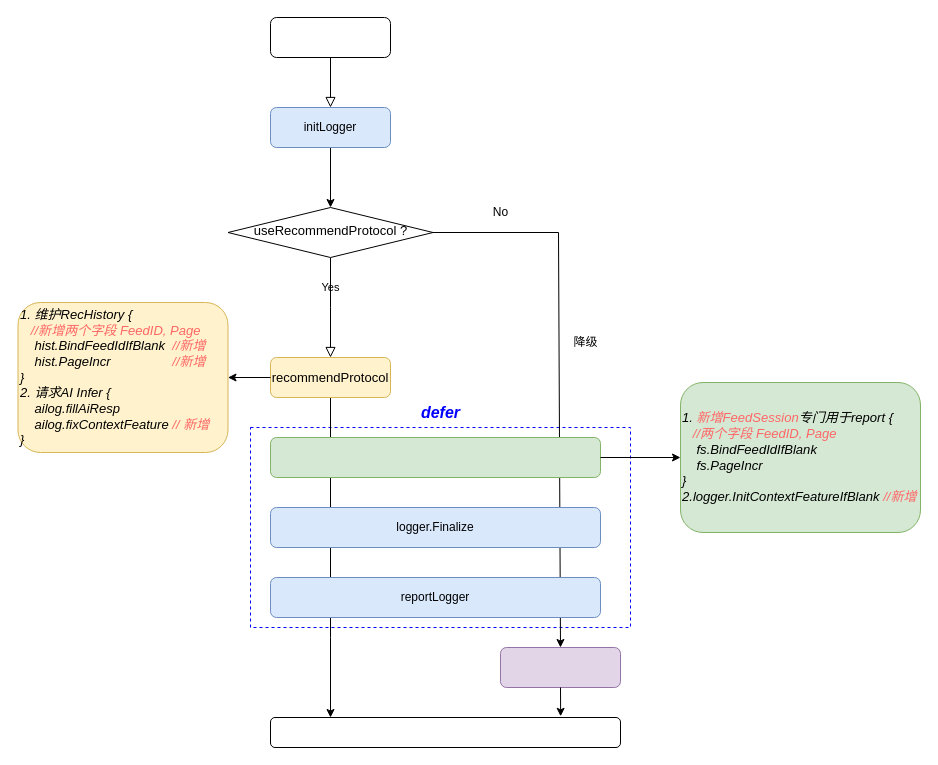
Some shapes in this 938 by 765 pixel diagram are drawn without their labels. Here are the shapes that lost their labels. From the top down, the centre of each, then its label:
At point (330, 37): "HotReplyV2".
At point (435, 457): "fix logger_ContextFeature".
At point (560, 667): "PageNumHotReply".
At point (445, 732): "return HotReplyV2Res".
